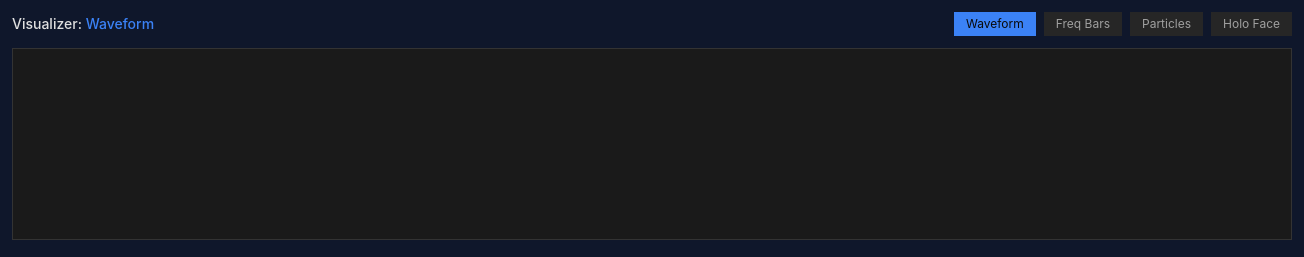
Test case: VoiceVisualizer › switching between plugins works
Expected: the text "Visualizer: Waveform" is shown, [12,14,154,34]
Click the button "Freq Bars" at (1083, 24), box [1044,12,1122,36]
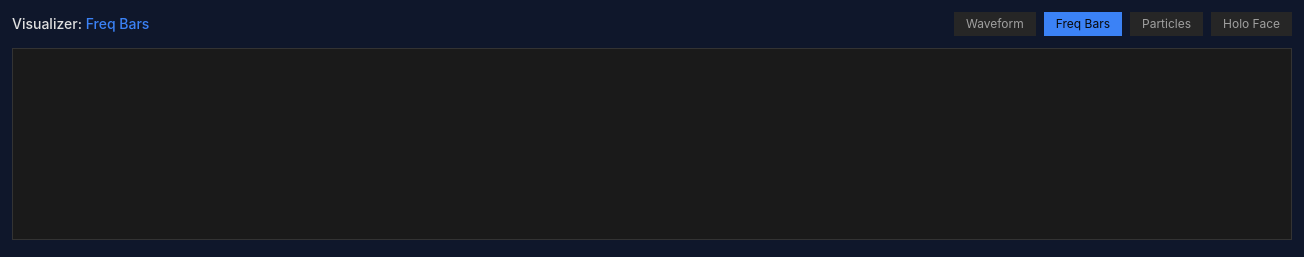
Result: the text "Visualizer: Freq Bars" is shown at [12,14,149,34]
